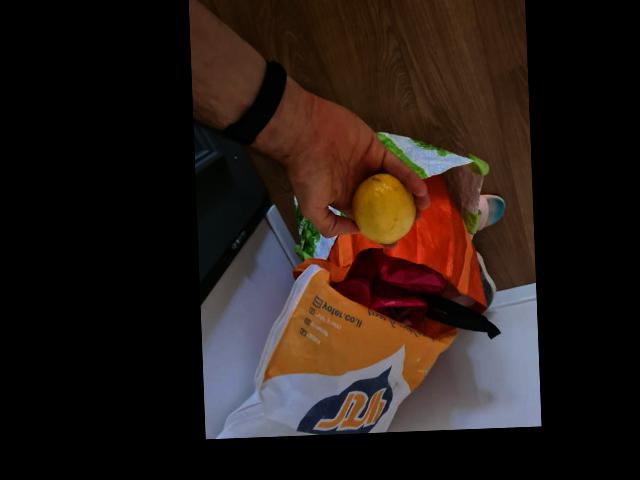lemon: (351, 169, 410, 245)
